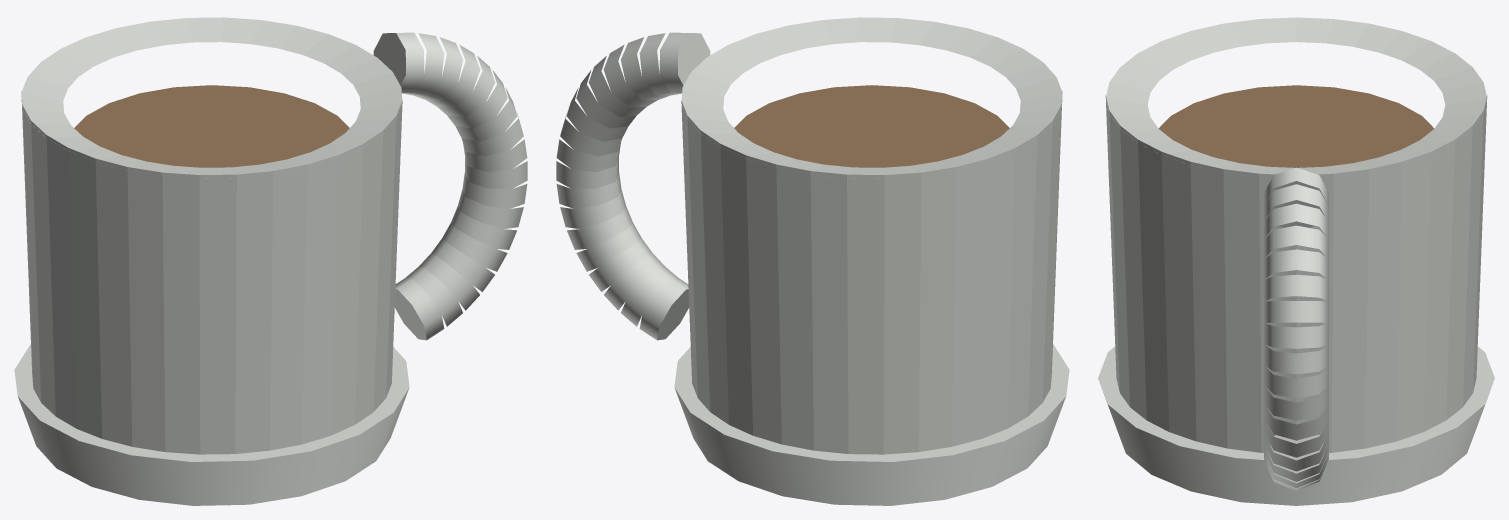
Rendered from coffee_mug02.glb.
3 views of the same model, side by side, from view 1: azimuth 30°, elevation 25°; view 2: azimuth 150°, elevation 25°; view 3: azimuth 270°, elevation 25° (orthographic).
Visible parts, largest first — view 1: outside, handle, bottom, lip, coffee; view 2: outside, handle, bottom, lip, coffee; view 3: outside, handle, bottom, lip, coffee.
Boxes of the visible parts, bbox=[...] form: outside: bbox=[21, 91, 402, 454]; handle: bbox=[373, 32, 527, 340]; bottom: bbox=[14, 344, 409, 505]; lip: bbox=[21, 17, 402, 178]; coffee: bbox=[74, 85, 349, 167]; outside: bbox=[681, 91, 1062, 454]; handle: bbox=[556, 32, 710, 340]; bottom: bbox=[674, 344, 1069, 505]; lip: bbox=[681, 17, 1062, 178]; coffee: bbox=[734, 85, 1009, 167]; outside: bbox=[1105, 95, 1487, 452]; handle: bbox=[1264, 167, 1328, 491]; bottom: bbox=[1098, 346, 1494, 505]; lip: bbox=[1105, 17, 1487, 177]; coffee: bbox=[1158, 85, 1434, 167].
Size of the model in its own units: 0.1464 by 0.1018 by 0.104.
